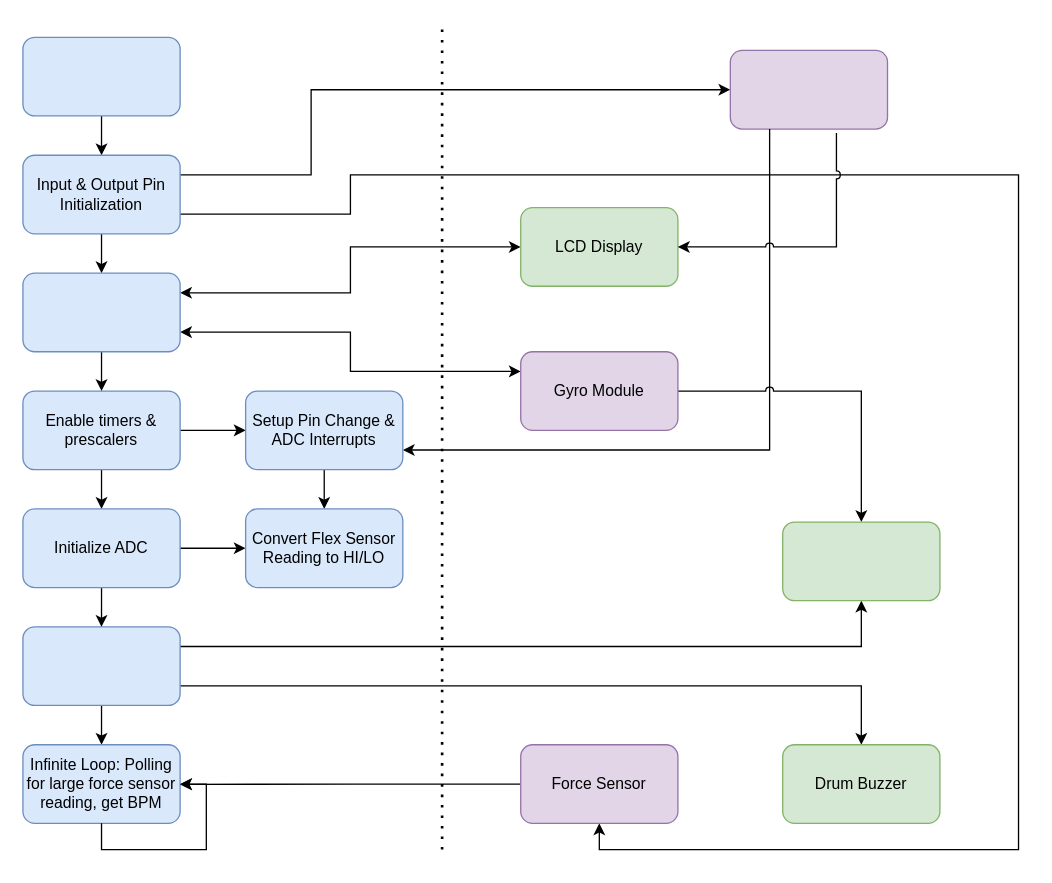
The diagram is 1052 pixels wide and 883 high, and some of its shapes have lost their labels. The shapes that lost their labels are listed below. From the top down, each one's box as (x1, y1, x2, y2) in pixels, then its label:
(22, 36, 180, 116): System Powered On & MCU Startup
(729, 49, 888, 129): Flex Sensors
(22, 272, 180, 352): Initialize serial communication (SPI & I2C)
(781, 521, 940, 601): Speaker Module
(22, 626, 180, 705): Enable PWM
